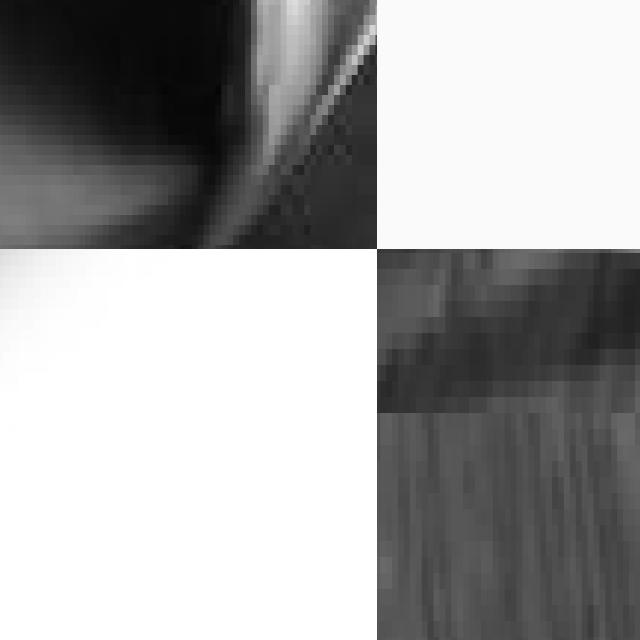forks: (377, 249, 640, 413)
spoons: (0, 0, 377, 249)
